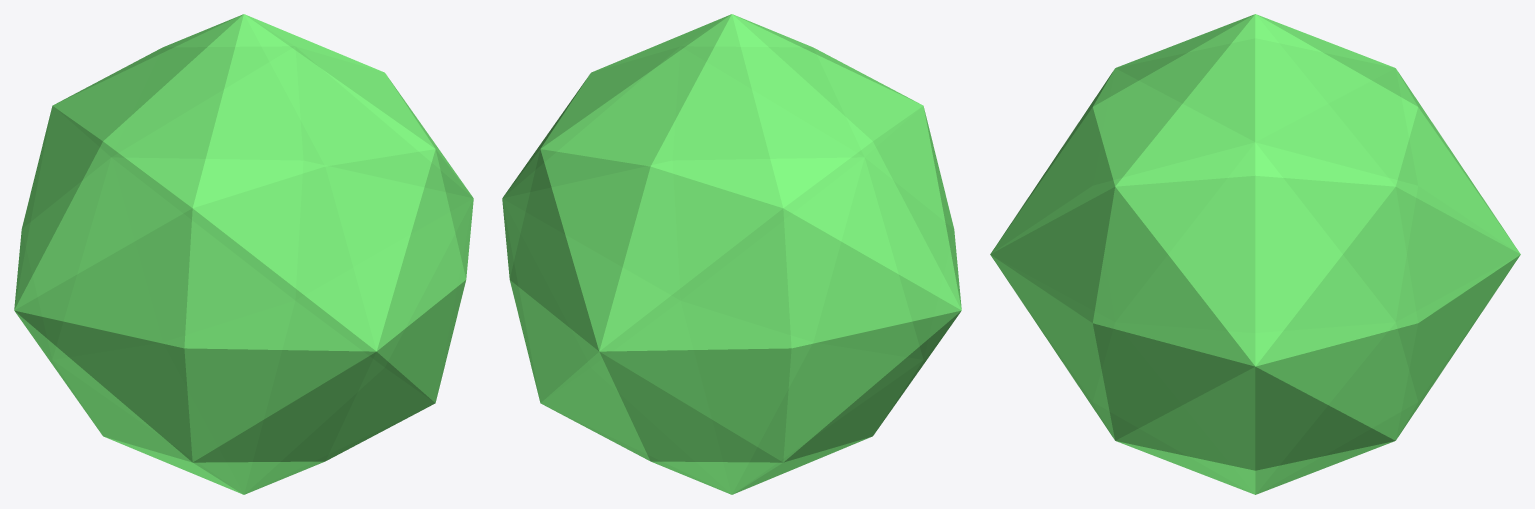
File: DisdyakisDodecahedron.obj
3 renders of one model, left to right at view 1: azimuth 30°, elevation 25°; view 2: azimuth 150°, elevation 25°; view 3: azimuth 270°, elevation 25°, orthographic.
Bounding box in the file's own units: 5.35 × 5.35 × 5.35.
